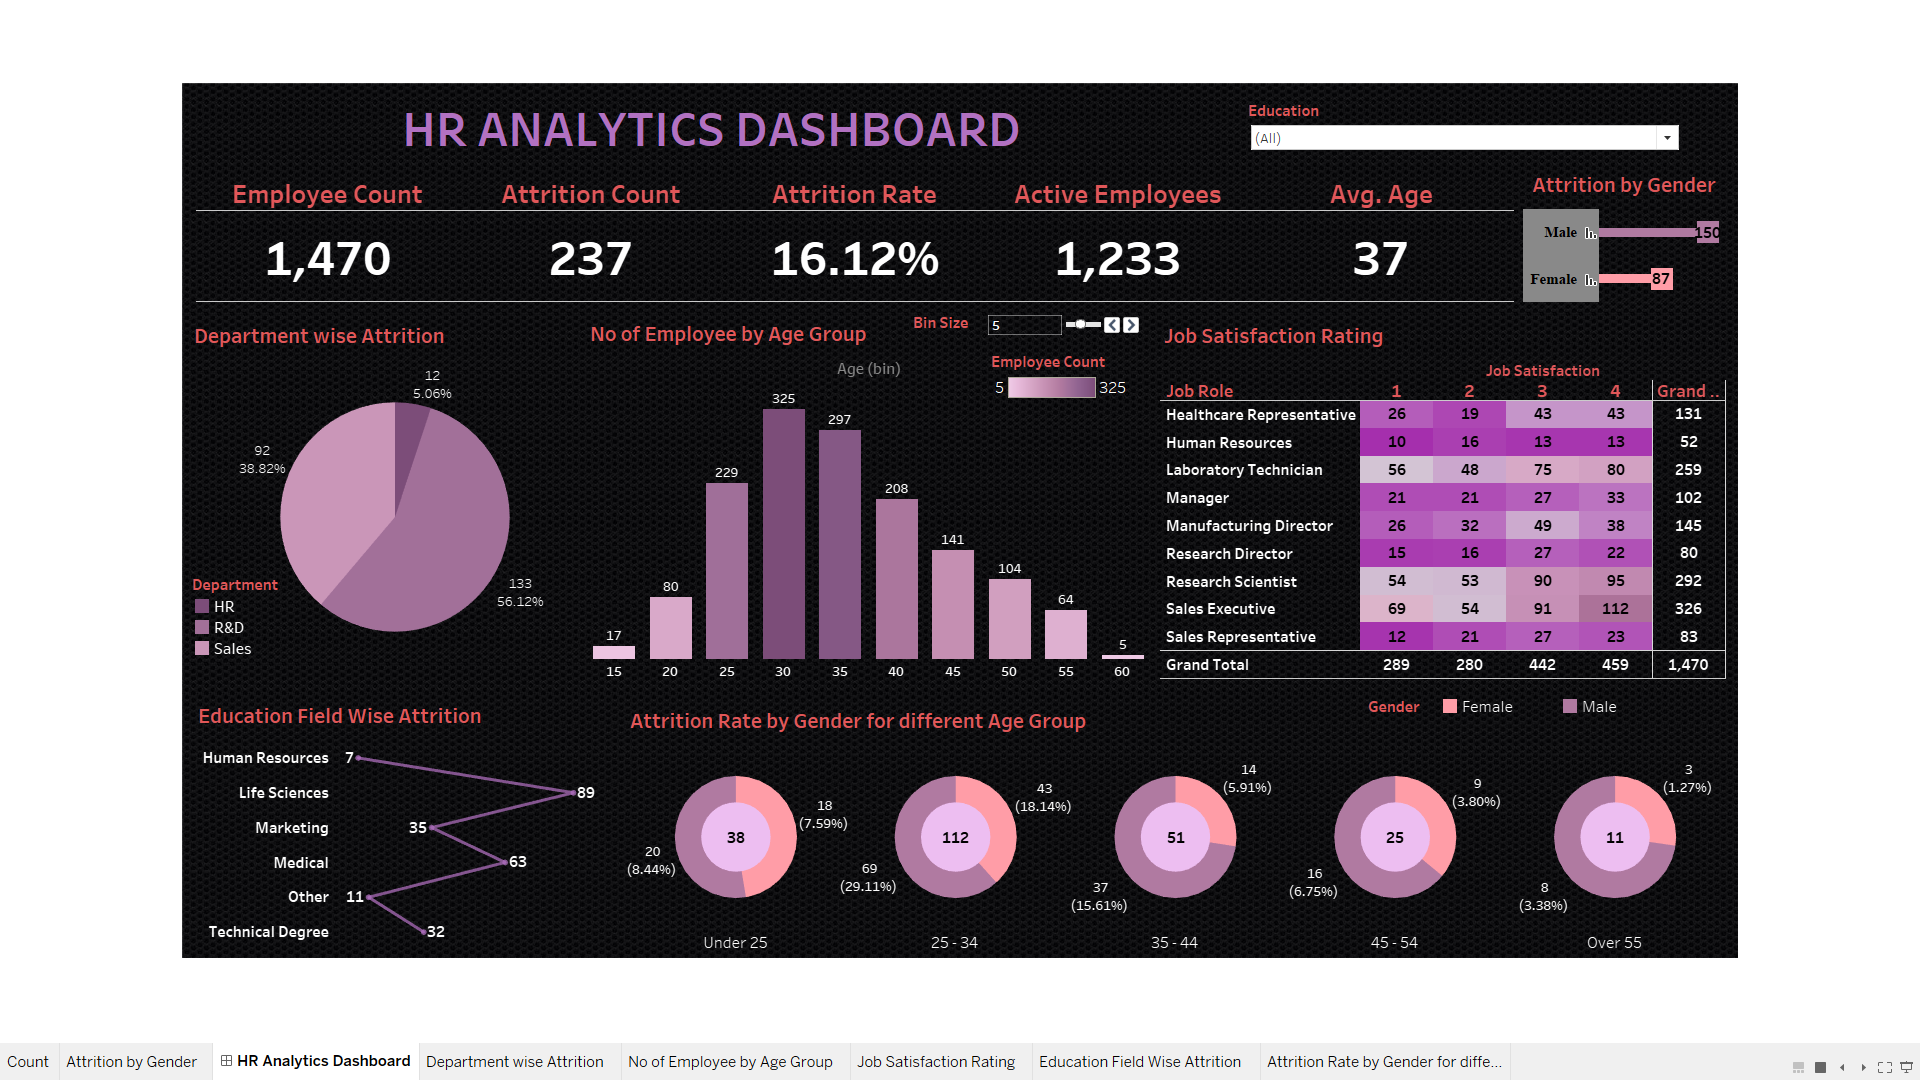

This screenshot's page, from the dashboard's own definition file:
{"tool":"tableau","page":{"name":"HR Analytics Dashboard","canvas":[1580,900],"ordinal":0},"visuals":[{"type":"image","param":"Image/StreetShit.jfif","box":[8,8,1564,884]},{"type":"text","box":[20,22,1043,68]},{"type":"filter","title":"No of Employee by Age Group","param":"[federated.0pebv5t00q6y1b101v80u0bdf06h].[none:Education:nk]","box":[1078,29,434,64]},{"type":"worksheet","title":"Attrition by Gender","mark":"Automatic","rows":["Gender"],"cols":["Calculation_690458131331940352","Calculation_690458131331940352"],"box":[1353,95,202,136]},{"type":"worksheet","title":"Count","mark":"Automatic","box":[26,99,1318,132]},{"type":"parameter","param":"[Parameters].[Parameter 1]","box":[743,241,229,31]},{"type":"worksheet","title":"No of Employee by Age Group","mark":"Automatic","rows":["Employee Count"],"cols":["Age (bin)"],"box":[416,244,565,366]},{"type":"worksheet","title":"Department wise Attrition","mark":"Pie","box":[20,246,410,357]},{"type":"worksheet","title":"Job Satisfaction Rating","mark":"Square","rows":["Job Role"],"cols":["Job Satisfaction"],"box":[990,246,566,362]},{"type":"legend","title":"No of Employee by Age Group","param":"[federated.0pebv5t00q6y1b101v80u0bdf06h].[sum:Employee Count:qk]","box":[821,280,140,47]},{"type":"legend","title":"Department wise Attrition","param":"[federated.0pebv5t00q6y1b101v80u0bdf06h].[none:Department:nk]","box":[22,503,136,88]},{"type":"legend","title":"Attrition Rate by Gender for different Age Group","param":"[federated.0pebv5t00q6y1b101v80u0bdf06h].[none:Gender:nk]","box":[1198,625,360,25]},{"type":"worksheet","title":"Education Field Wise Attrition","mark":"Line","rows":["Education Field"],"cols":["Calculation_690458131331940352"],"box":[24,626,421,252]},{"type":"worksheet","title":"Attrition Rate by Gender for different Age Group","mark":"Pie","rows":["Calculation_690458131443294212","Calculation_690458131443294212"],"cols":["CF_age band"],"box":[456,631,1099,252]}]}

Visuals, with their boxes on the page's 1580x900 design canvas (x1, y1, x2, y2). These are canvas units, not pixel positions in the 1920x1080 screenshot, which may show the page scaled, cropped or inside an application window:
image: region(8, 8, 1572, 892)
text: region(20, 22, 1063, 90)
"No of Employee by Age Group" filter: region(1078, 29, 1512, 93)
"Attrition by Gender" worksheet: region(1353, 95, 1555, 231)
"Count" worksheet: region(26, 99, 1344, 231)
parameter: region(743, 241, 972, 272)
"No of Employee by Age Group" worksheet: region(416, 244, 981, 610)
"Department wise Attrition" worksheet (Pie marks): region(20, 246, 430, 603)
"Job Satisfaction Rating" worksheet (Square marks): region(990, 246, 1556, 608)
"No of Employee by Age Group" legend: region(821, 280, 961, 327)
"Department wise Attrition" legend: region(22, 503, 158, 591)
"Attrition Rate by Gender for different Age Group" legend: region(1198, 625, 1558, 650)
"Education Field Wise Attrition" worksheet (Line marks): region(24, 626, 445, 878)
"Attrition Rate by Gender for different Age Group" worksheet (Pie marks): region(456, 631, 1555, 883)
